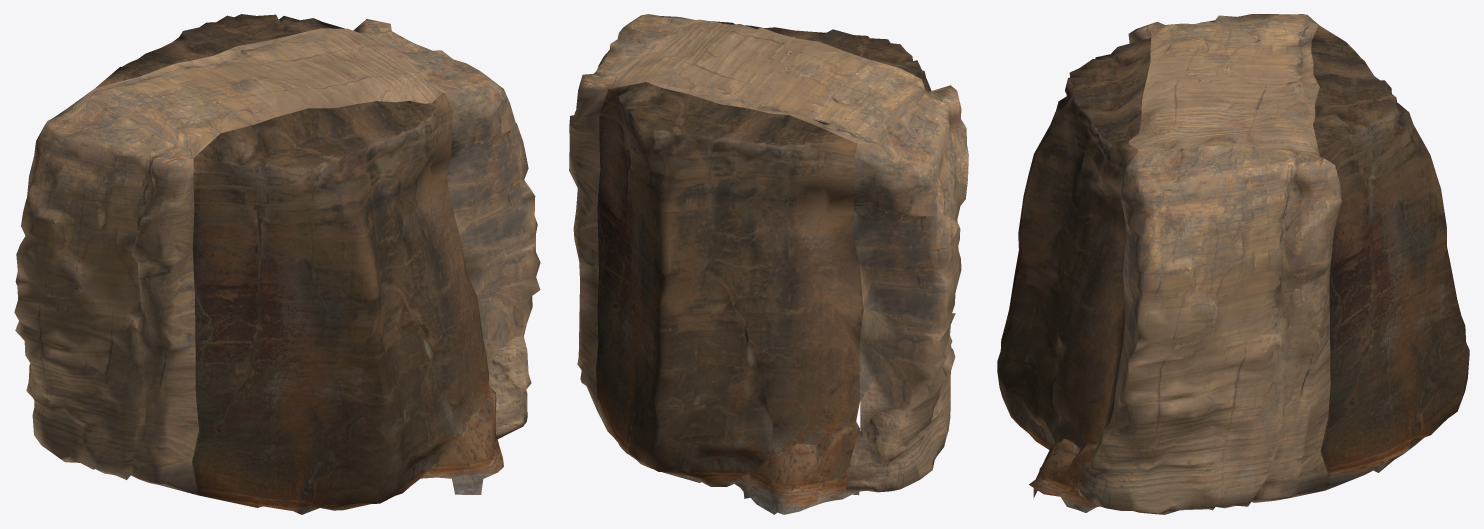
File: Custom Cliff To Unity.fbx
3 renders of one model, left to right at view 1: azimuth 30°, elevation 25°; view 2: azimuth 150°, elevation 25°; view 3: azimuth 270°, elevation 25°, orthographic. The views are drawn at different scales.
Parts seen in each view (by area): view 1: Aset_nature_rock_L_xekkefiqx_00_LOD4__18_; view 2: Aset_nature_rock_L_xekkefiqx_00_LOD4__18_; view 3: Aset_nature_rock_L_xekkefiqx_00_LOD4__18_.
Boxes of the visible parts, <box> form: Aset_nature_rock_L_xekkefiqx_00_LOD4__18_: <box>14,14,540,514</box>; Aset_nature_rock_L_xekkefiqx_00_LOD4__18_: <box>569,14,968,514</box>; Aset_nature_rock_L_xekkefiqx_00_LOD4__18_: <box>997,14,1469,514</box>.
Bounding box in the file's own units: 887 × 730 × 837.
